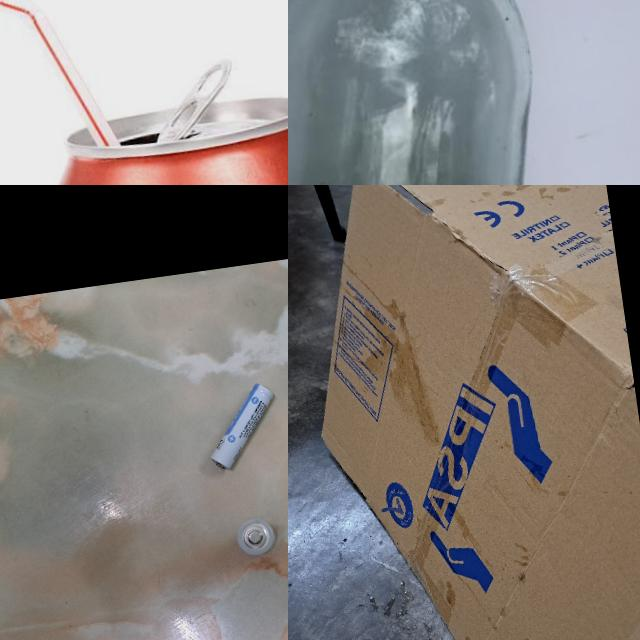aba de lata: (145, 50, 244, 147)
bateria: (201, 382, 284, 472), (234, 517, 280, 559)
garrafa de vidro: (288, 0, 557, 185)
lata: (33, 75, 288, 185)
papelão: (288, 185, 640, 640)
